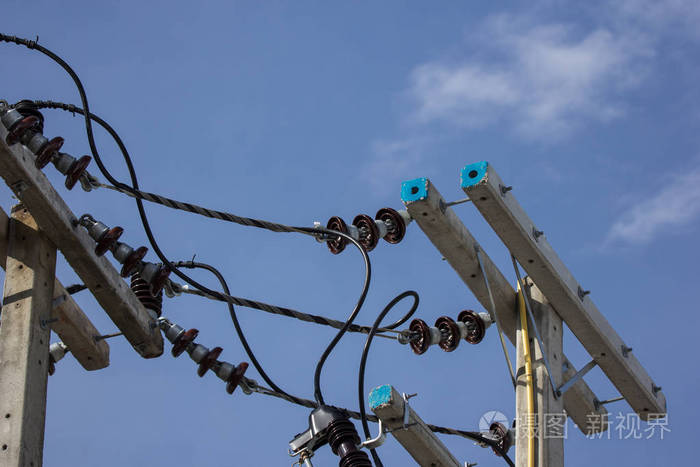insulator: (5, 115, 92, 189), (167, 327, 250, 397), (326, 204, 407, 255), (412, 310, 488, 359)
